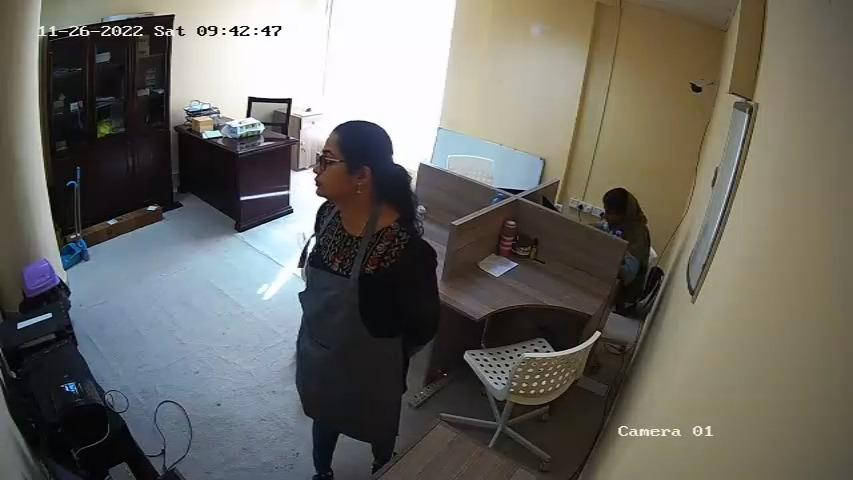apron: (301, 206, 395, 426)
